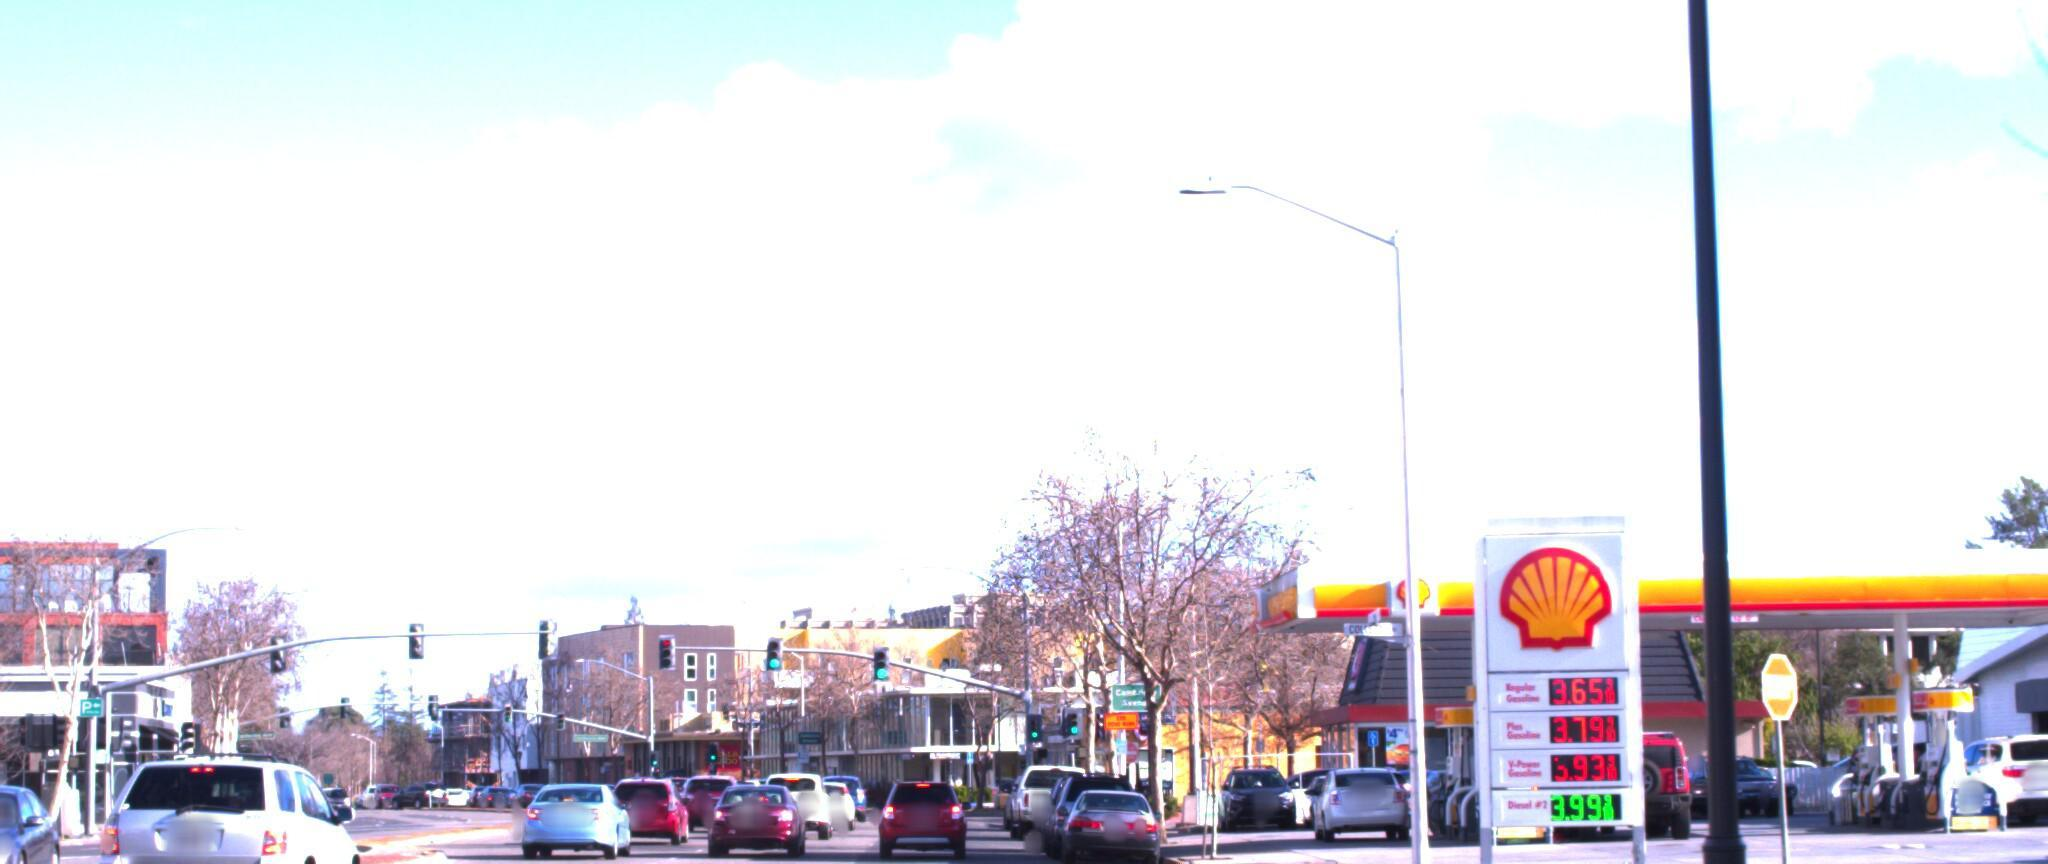car: (93, 736, 376, 864), (1537, 706, 1697, 821), (1933, 710, 2048, 807), (1053, 762, 1166, 851), (519, 760, 630, 847), (1304, 744, 1415, 829), (1034, 752, 1139, 841), (714, 758, 811, 842), (875, 756, 965, 841), (616, 761, 700, 833), (1004, 743, 1080, 810), (765, 752, 842, 816)
